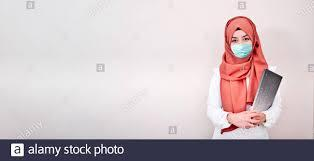Wearing Mask: (204, 2, 272, 72)
